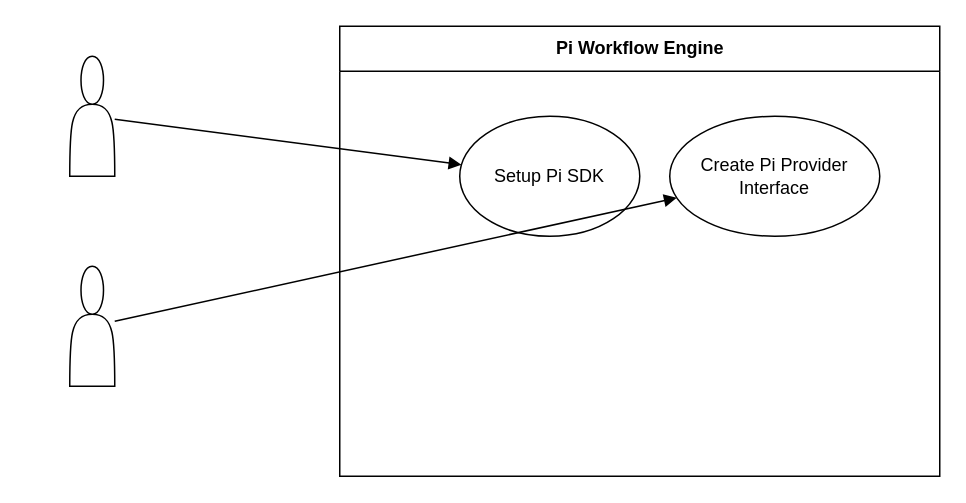
This 966x503 diagram has some shape labels left out. The shapes that lost their labels are listed below. From the top down, each one's centre as x and y in pixels, then its label:
At point (91, 115): "Developer".
At point (91, 325): "System Architect".
